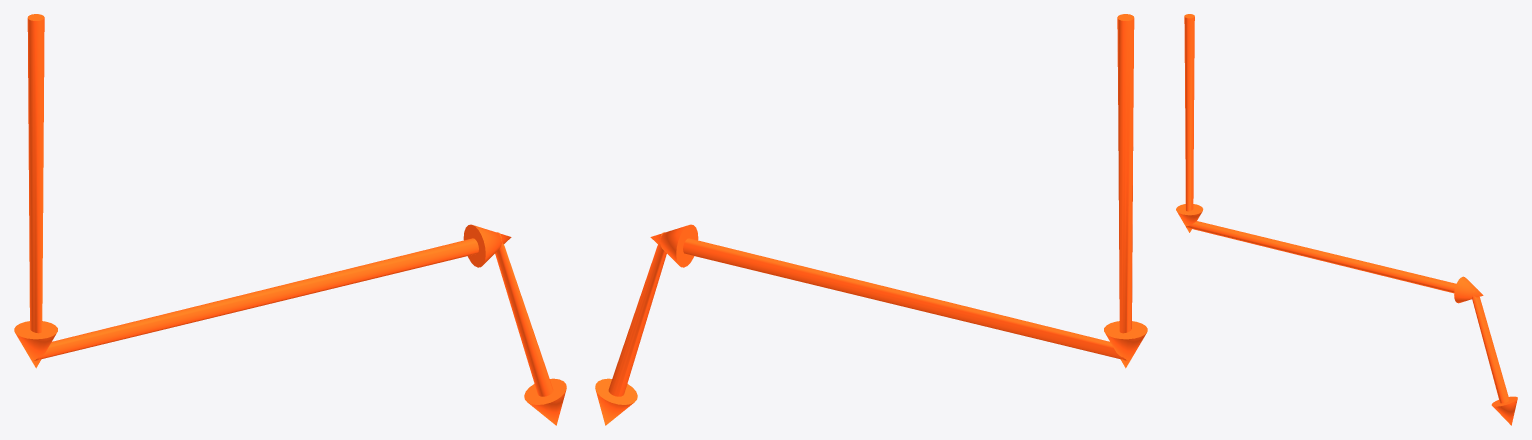
File: vibrating_feeder_flow.glb
The picture shows the model from 3 angles, left to right: view 1: azimuth 30°, elevation 25°; view 2: azimuth 150°, elevation 25°; view 3: azimuth 330°, elevation 25°; orthographic projection. The views are drawn at different scales.
Parts seen in each view (by area): view 1: material; view 2: material; view 3: material.
Part boxes in pixels (left/top/right/bottom): material: left=14, top=14, right=566, bottom=425; material: left=595, top=14, right=1147, bottom=425; material: left=1176, top=14, right=1517, bottom=425.
Size of the model in its own units: 1.48 by 1.39 by 0.104.
